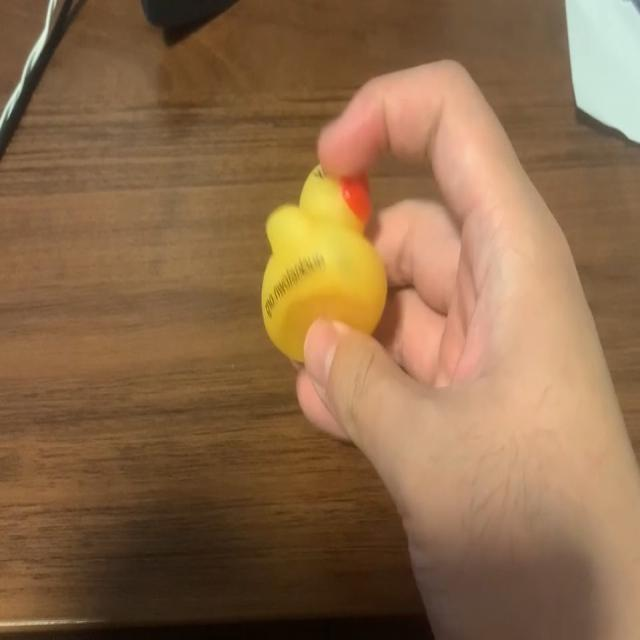rubber-duck: (261, 164, 385, 360)
